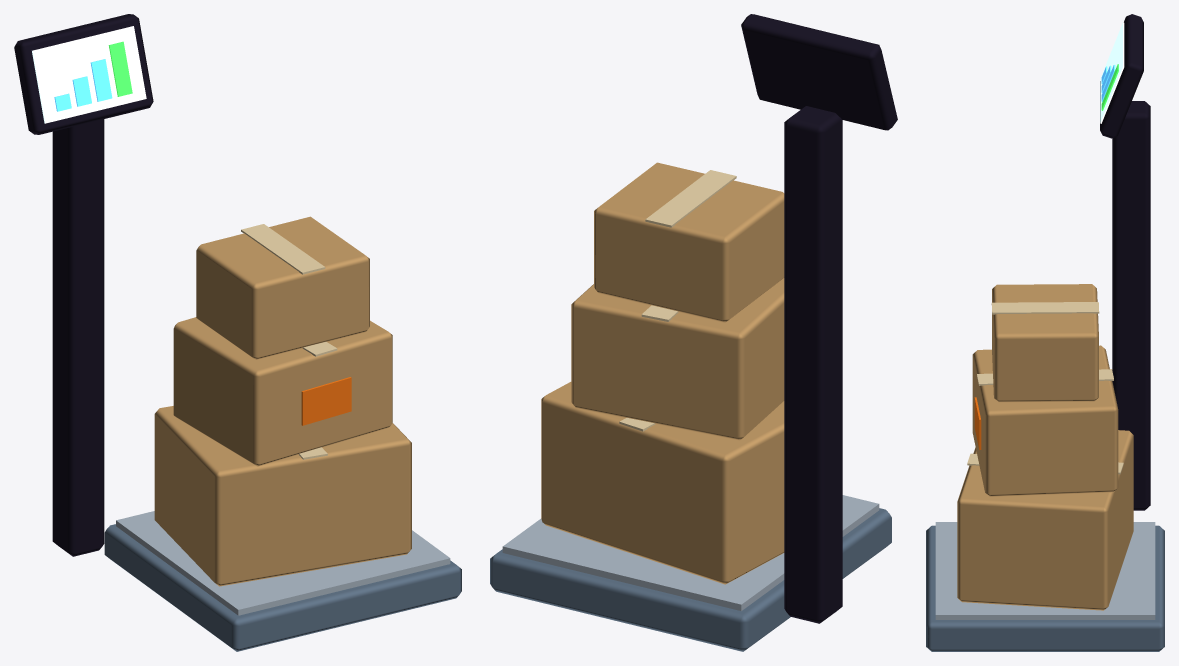
File: station_transport_ausstattung_2_2.glb
3 views of the same model, side by side, from view 1: azimuth 30°, elevation 25°; view 2: azimuth 150°, elevation 25°; view 3: azimuth 270°, elevation 25° (orthographic). The views are drawn at different scales.
Parts seen in each view (by area): view 1: station_transport_ausstattung_2_2; view 2: station_transport_ausstattung_2_2; view 3: station_transport_ausstattung_2_2.
Part boxes in pixels (bbox=[...]): station_transport_ausstattung_2_2: bbox=[14, 14, 461, 651]; station_transport_ausstattung_2_2: bbox=[490, 14, 897, 651]; station_transport_ausstattung_2_2: bbox=[926, 14, 1164, 651].
Bounding box in the file's own units: 0.72 × 1.15 × 0.5.
